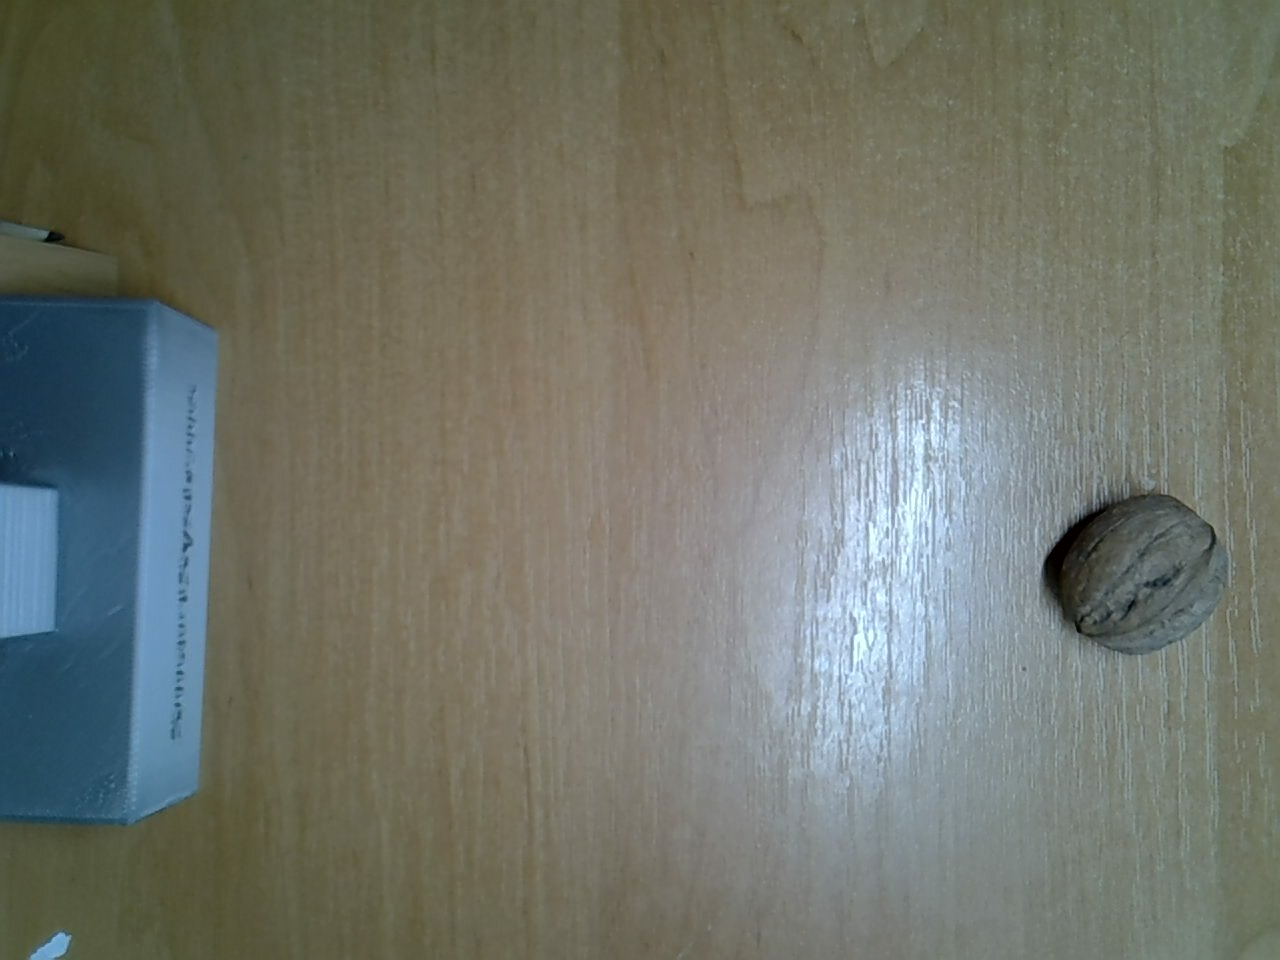nut: (1054, 483, 1235, 658)
